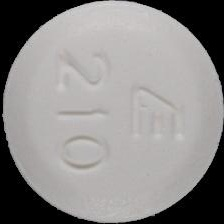68084-276: (0, 0, 224, 224)
